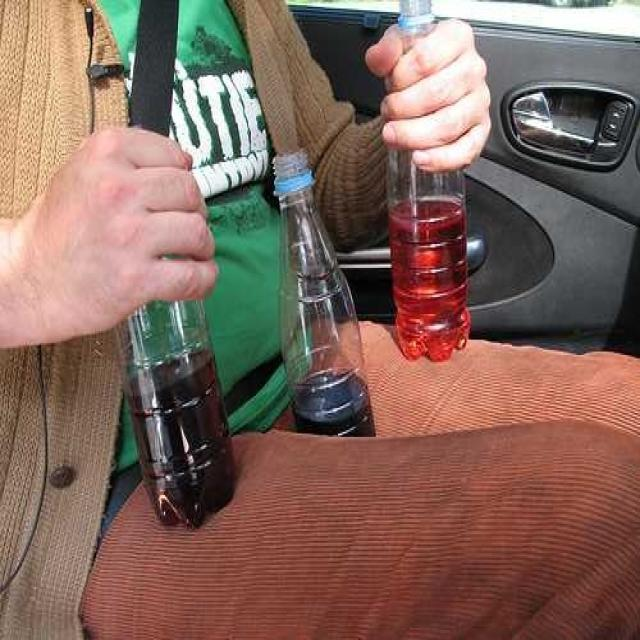seatbelt: (83, 8, 192, 138)
